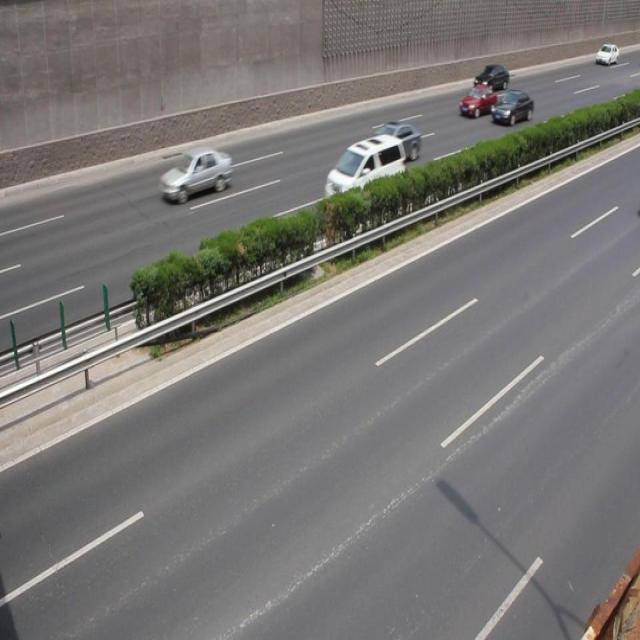car: (324, 135, 406, 221), (159, 148, 232, 202), (362, 120, 420, 166), (489, 89, 533, 124), (460, 83, 496, 118), (472, 64, 509, 92)
